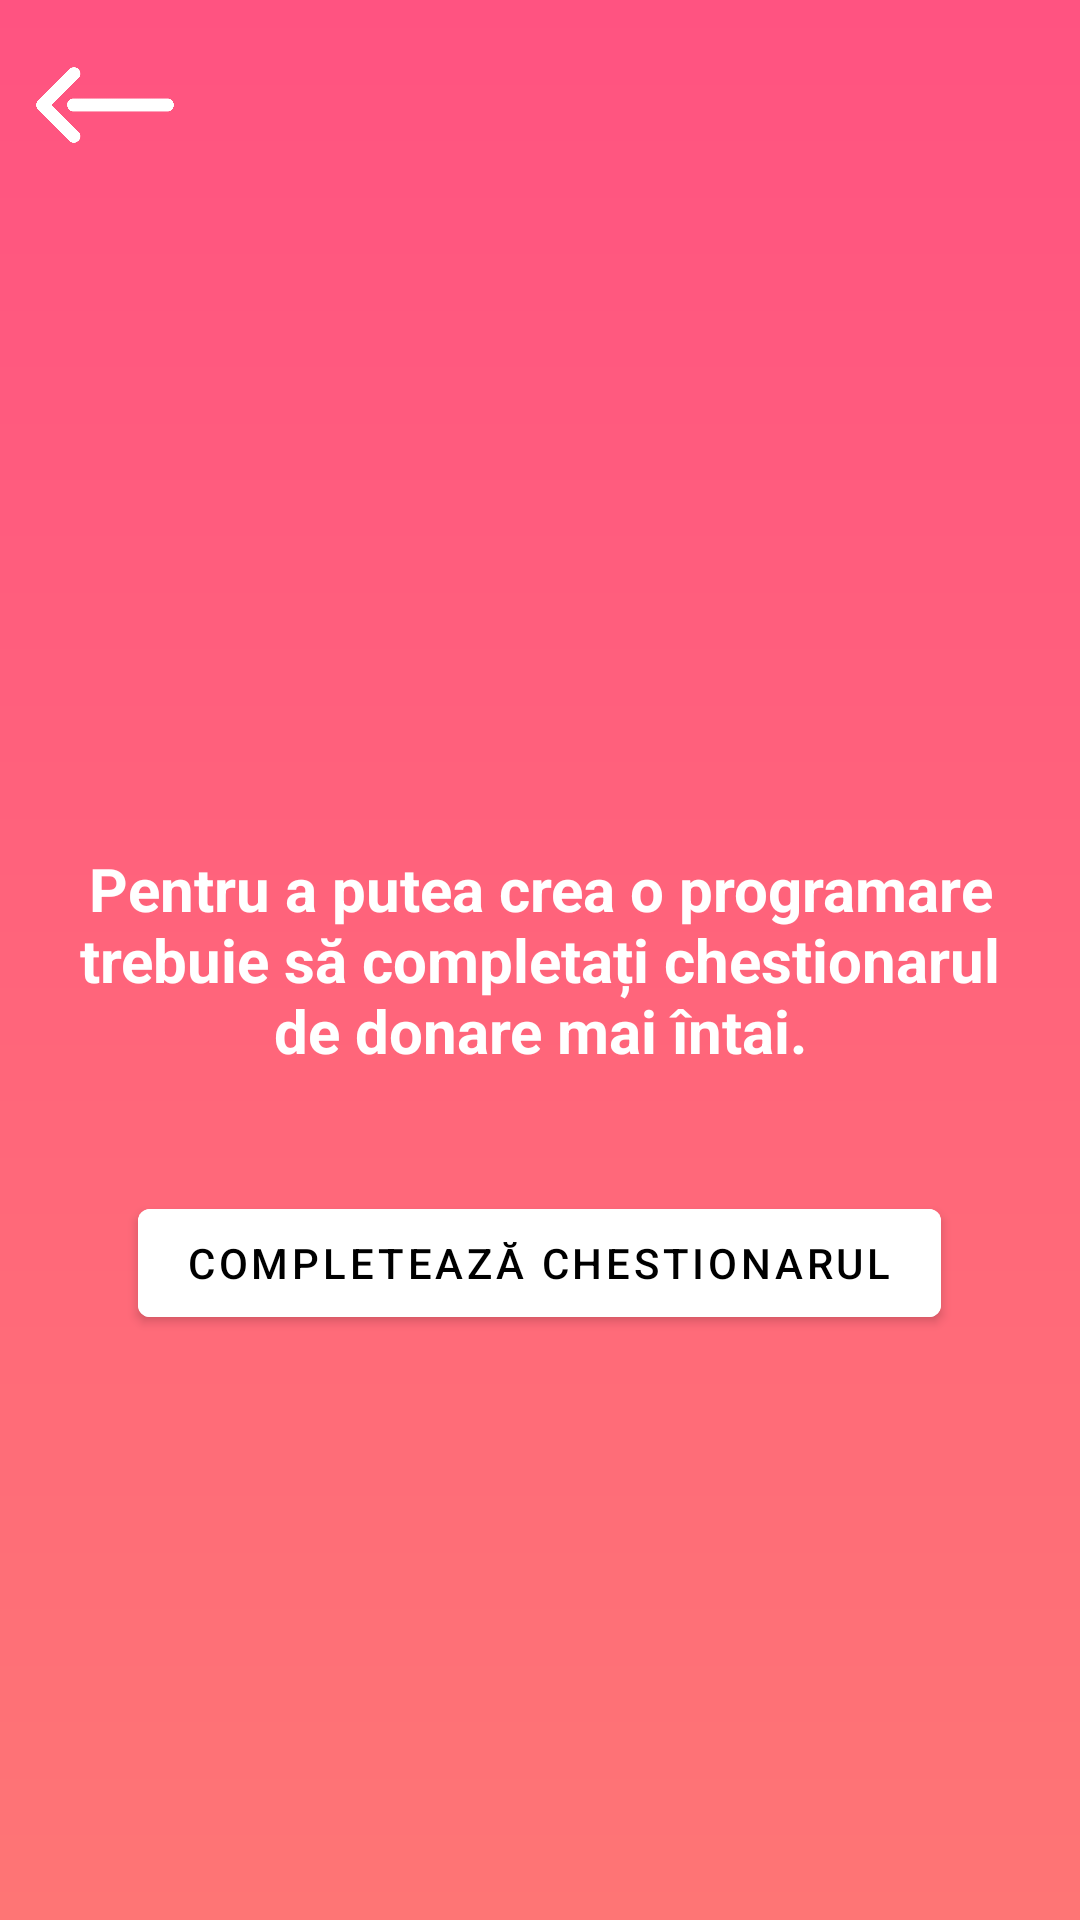

Screen size 1080*1920. Icon name, then its center in pixels as (x=x, y=y):
back: (x=105, y=105)
